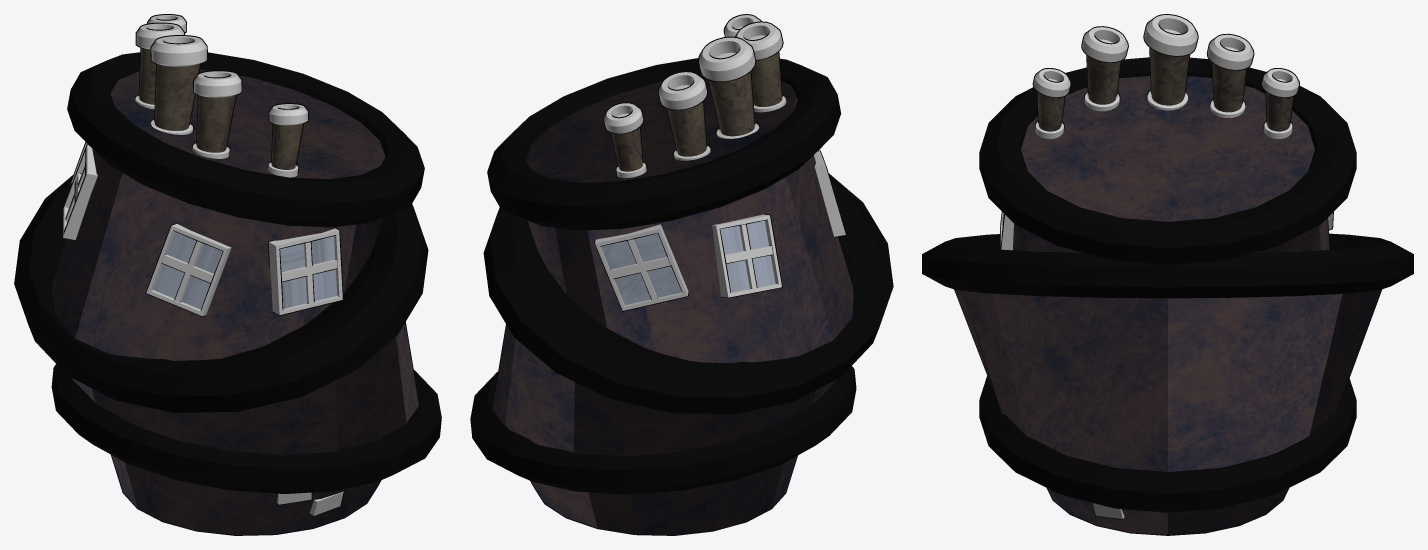
Rendered from Building7.fbx.
3 renders of one model, left to right at view 1: azimuth 30°, elevation 25°; view 2: azimuth 150°, elevation 25°; view 3: azimuth 270°, elevation 25°, orthographic. The views are drawn at different scales.
Parts seen in each view (by area): view 1: Building7; view 2: Building7; view 3: Building7.
Boxes of the visible parts, left/top/right/bottom form: Building7: left=14, top=14, right=441, bottom=535; Building7: left=470, top=14, right=893, bottom=535; Building7: left=922, top=14, right=1413, bottom=535.
Size of the model in its own units: 428 by 533 by 549.
